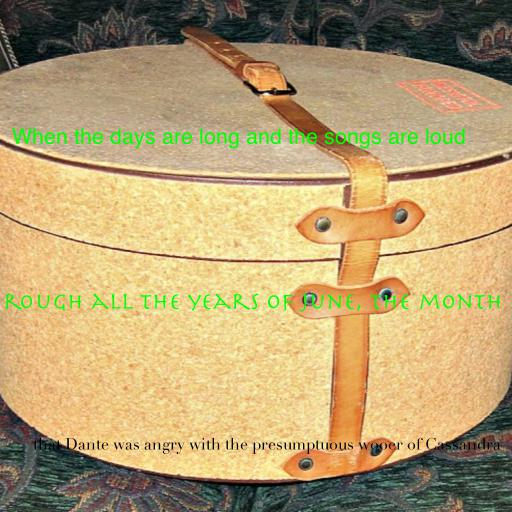Apple Chancery: (12, 128, 466, 149)
Didot: (33, 437, 501, 455)
Herculanum: (0, 293, 512, 312)
